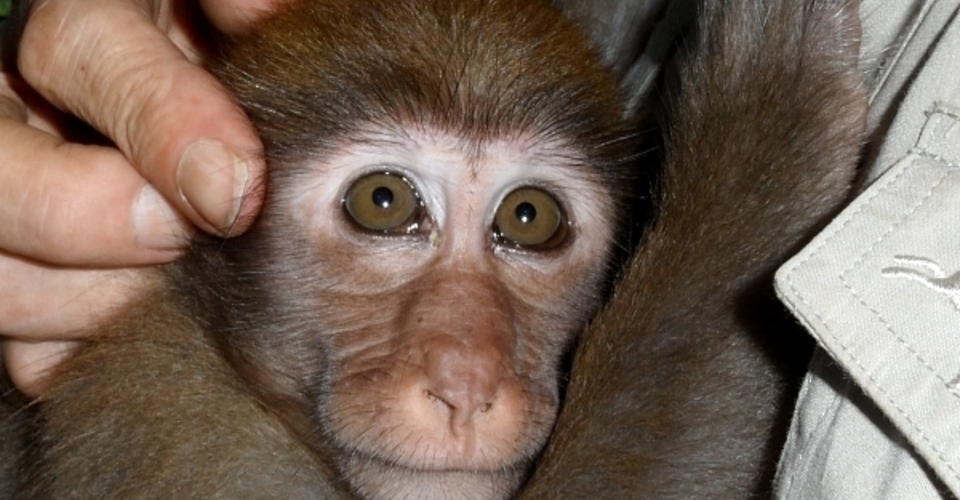monkey: (9, 3, 898, 500)
